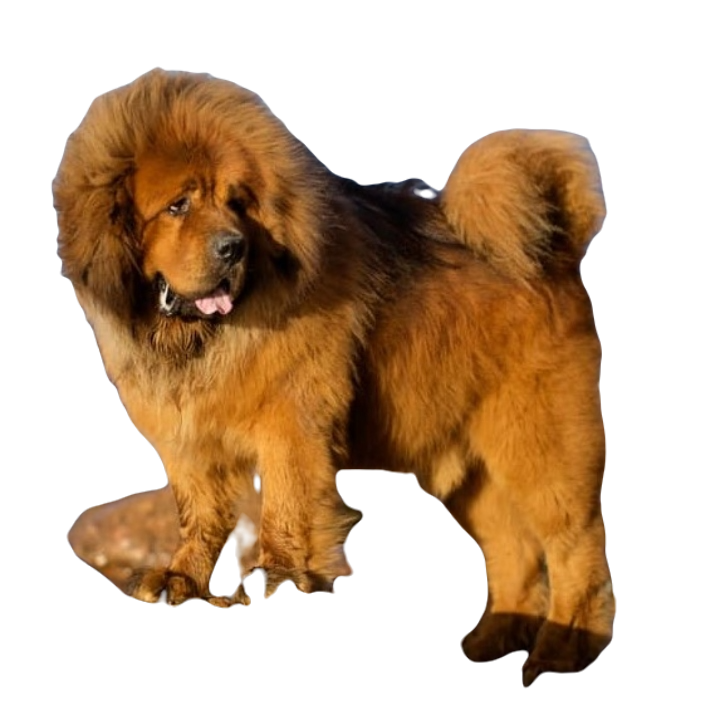Dog: (29, 67, 617, 687)
